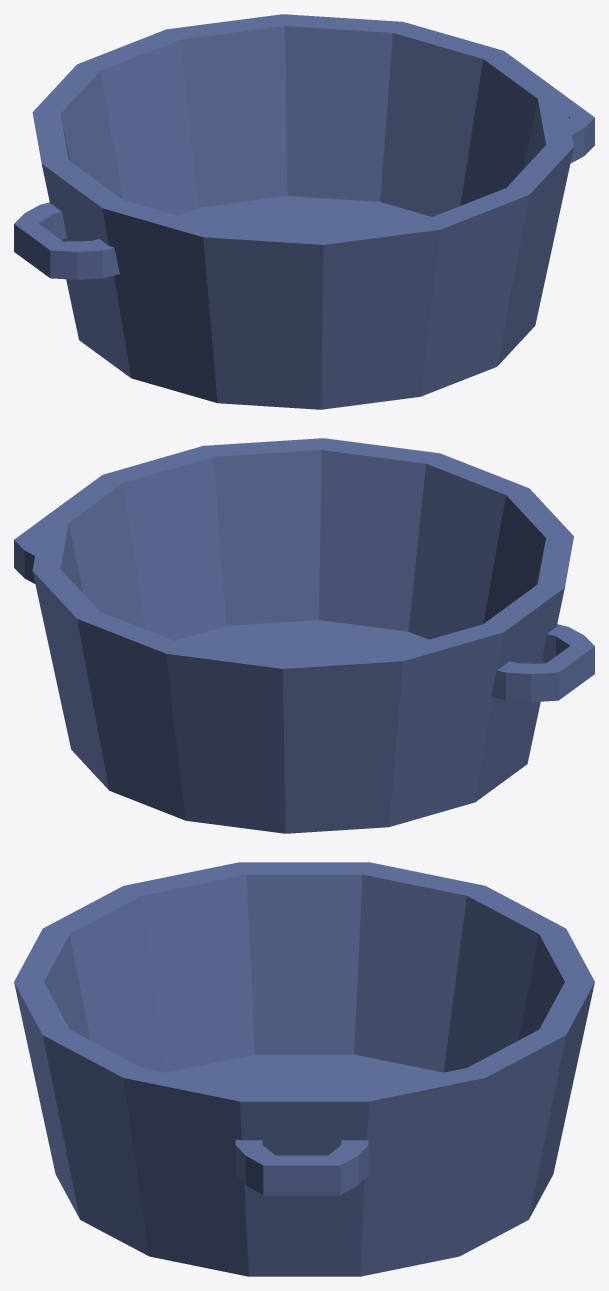
File: basin.fbx
3 renders of one model, top to bottom at view 1: azimuth 30°, elevation 25°; view 2: azimuth 150°, elevation 25°; view 3: azimuth 270°, elevation 25°, orthographic. The views are drawn at different scales.
Visible parts, largest first — view 1: basin; view 2: basin; view 3: basin.
Boxes of the visible parts, x1=… form: basin: x1=14, y1=14, x2=594, y2=409; basin: x1=14, y1=438, x2=594, y2=833; basin: x1=14, y1=862, x2=594, y2=1276.
Size of the model in its own units: 230 by 73.07 by 200.
